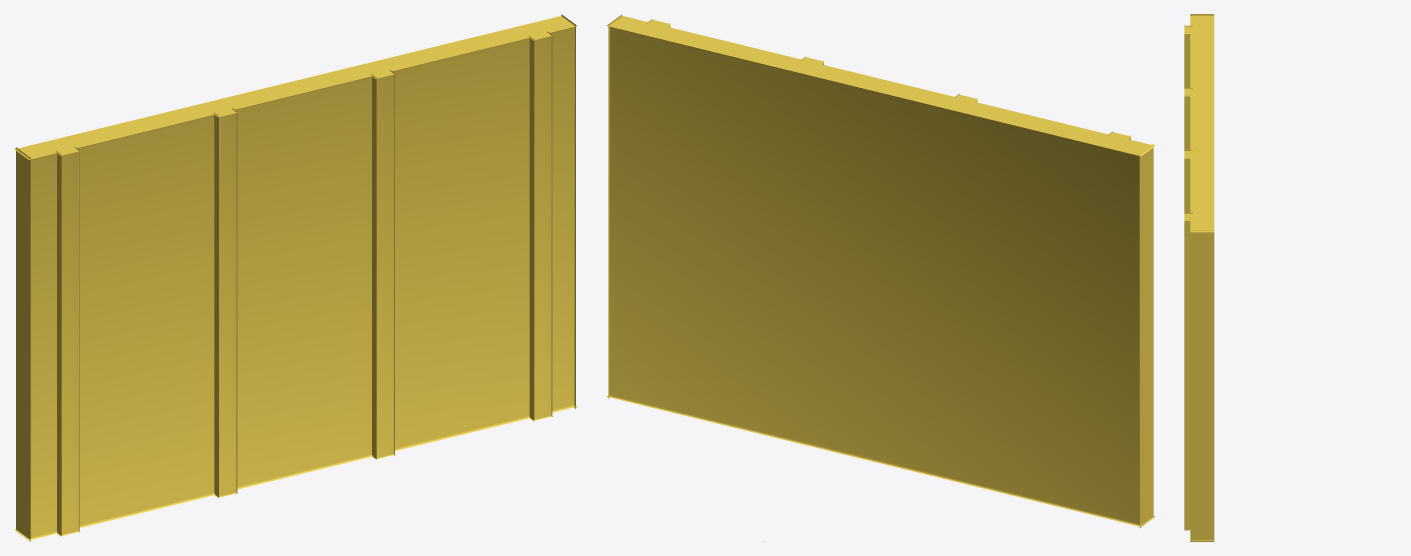
File: TER-ESR-002_anim.glb
The picture shows the model from 3 angles, left to right: view 1: azimuth 30°, elevation 25°; view 2: azimuth 150°, elevation 25°; view 3: azimuth 270°, elevation 25°; orthographic projection. The views are drawn at different scales.
Visible parts, largest first — view 1: TER-ESR-002_anim0; view 2: TER-ESR-002_anim0; view 3: TER-ESR-002_anim0.
Part boxes in pixels (<box>): TER-ESR-002_anim0: <box>14,14,577,541</box>; TER-ESR-002_anim0: <box>606,14,1154,527</box>; TER-ESR-002_anim0: <box>1184,14,1214,541</box>.
Size of the model in its own units: 3.02 by 2.02 by 1.25.
